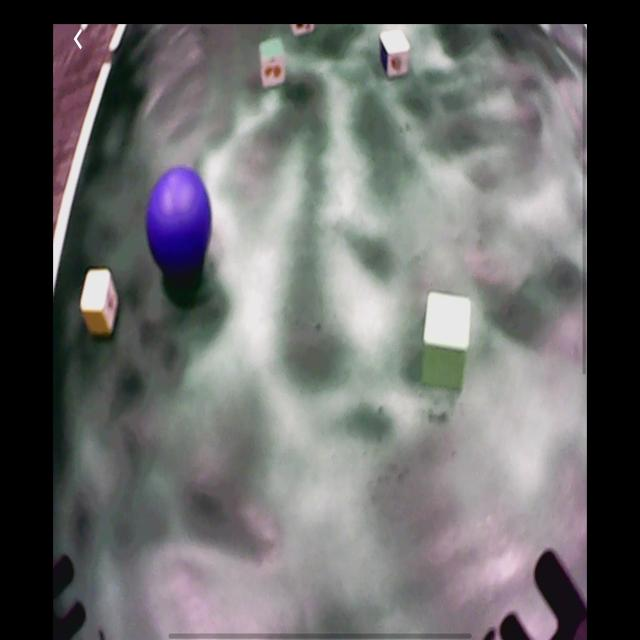ball: (145, 167, 212, 277)
